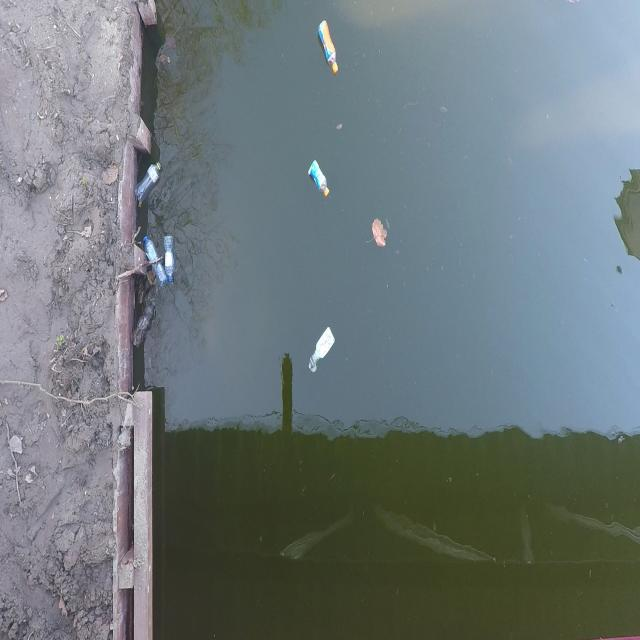Bouteille plastique: (314, 13, 342, 80), (307, 324, 339, 378), (134, 155, 164, 209), (132, 296, 158, 356), (144, 229, 167, 293), (305, 153, 333, 202), (163, 233, 178, 288)
